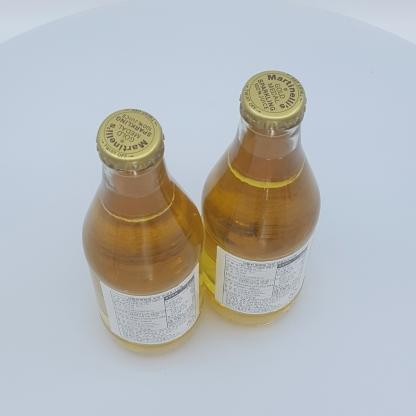------------------296ML: (200, 70, 321, 326), (82, 108, 204, 355)
